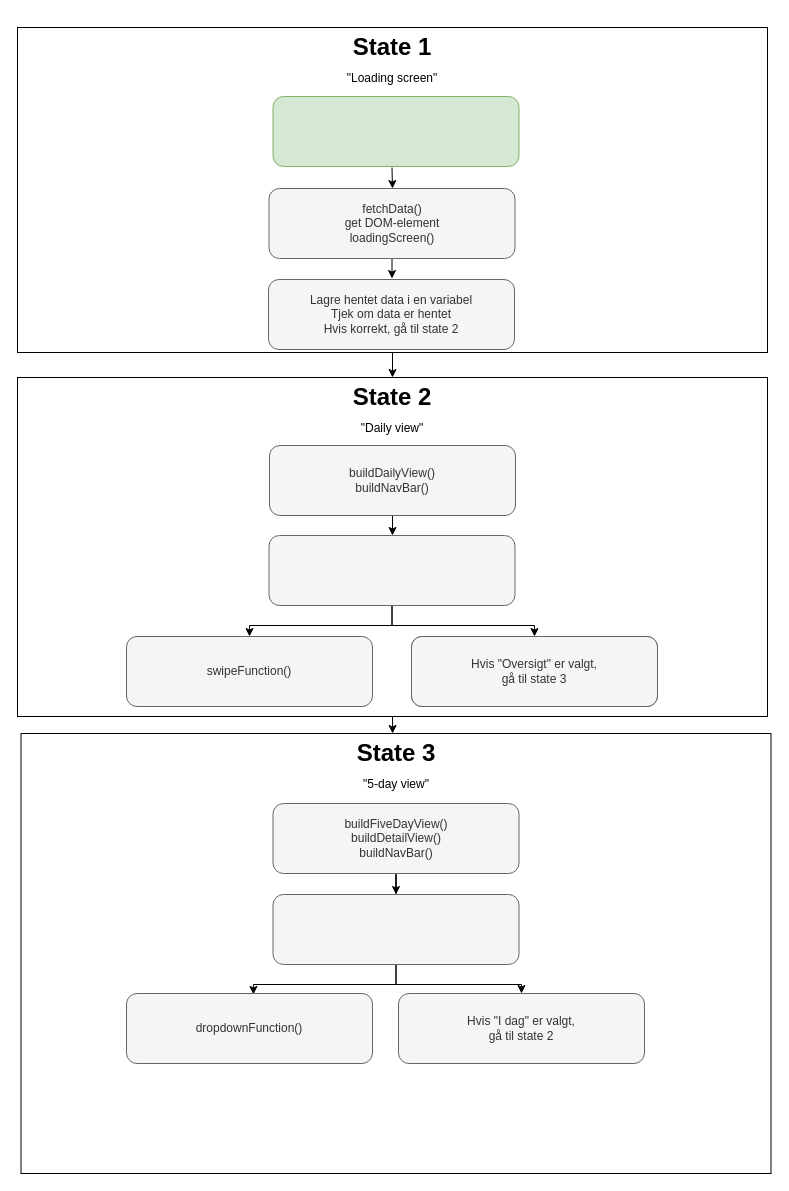
Image size: 789x1191. Some labels were removed from this diagram. The shapes that lost their labels are listed below. From the top down, each one's centre as x and y in pixels, then its label:
At (395,131): "window.addEventListener('load', initApp)".
At (391,570): "Hent Data variabel fillDailyData()".
At (395,929): "Hent Data variabel fillFiveDayData()".
